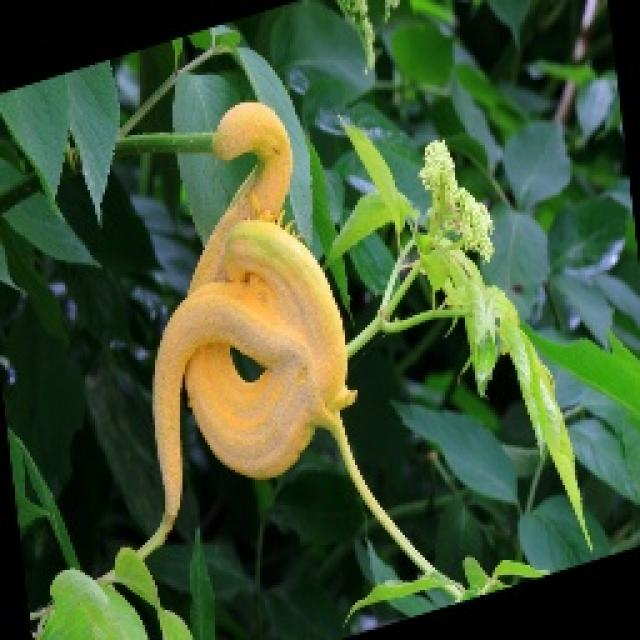Elderberry_rust: (143, 77, 374, 516)
